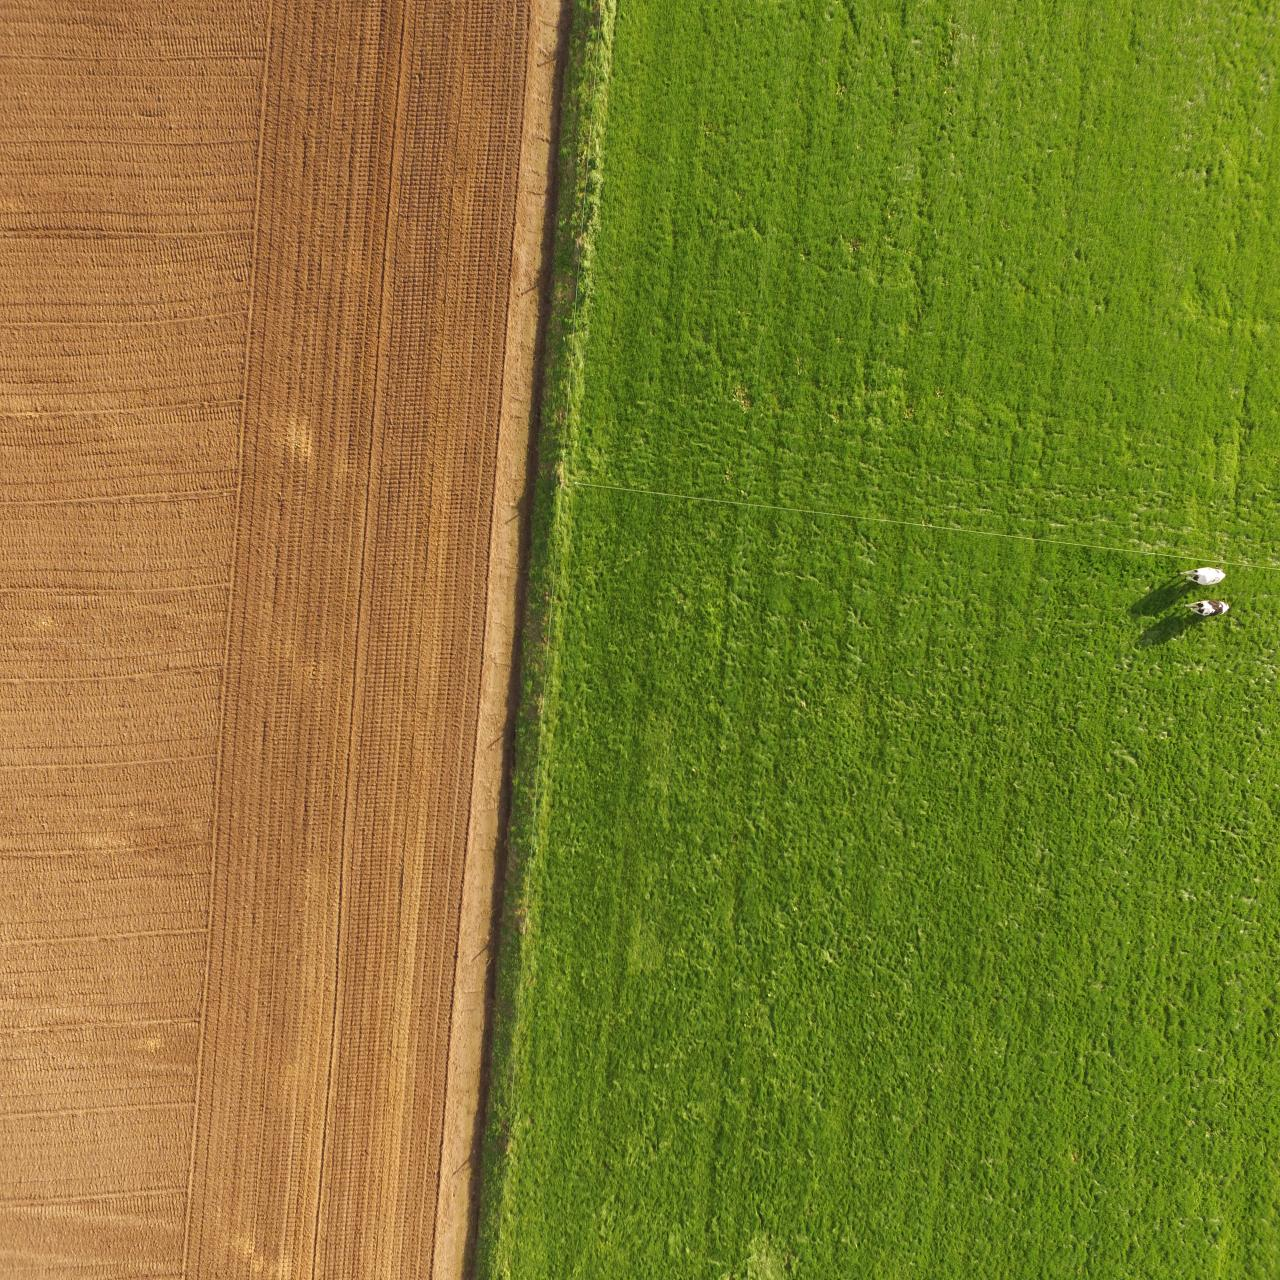cow: (1178, 564, 1225, 586), (1184, 595, 1230, 617)
